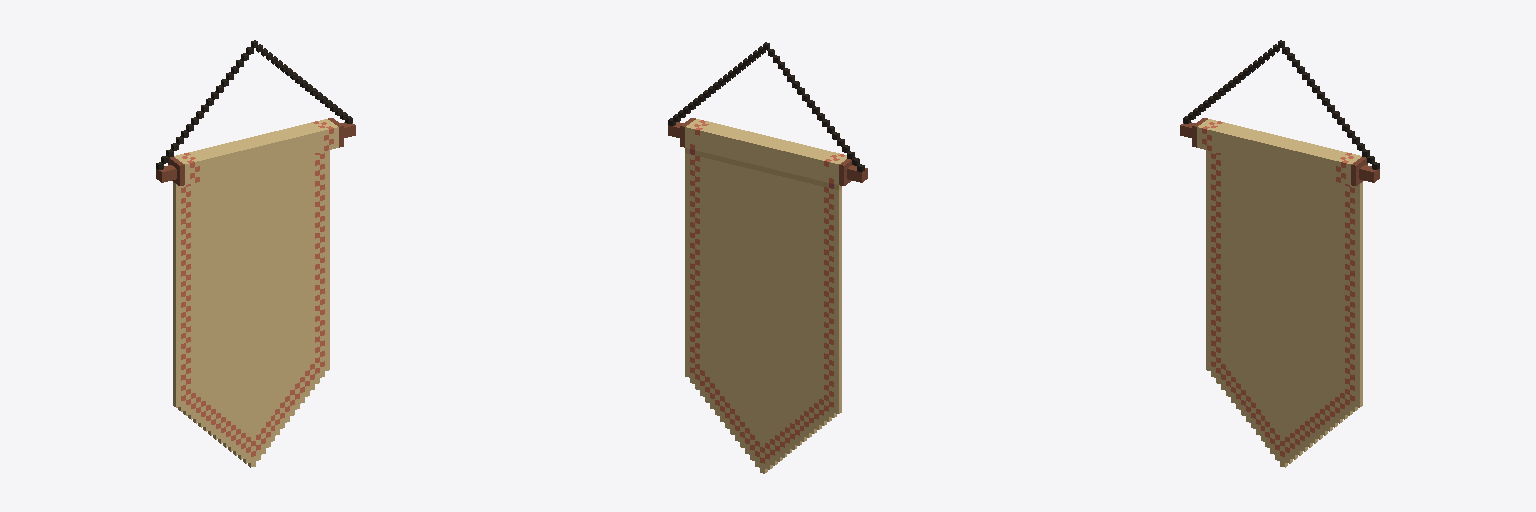
3 views of the same model, side by side, from view 1: azimuth 30°, elevation 25°; view 2: azimuth 150°, elevation 25°; view 3: azimuth 330°, elevation 25° (orthographic).
Bounding box in the file's own units: 39 × 82 × 4.
1 materials, 1 textured.